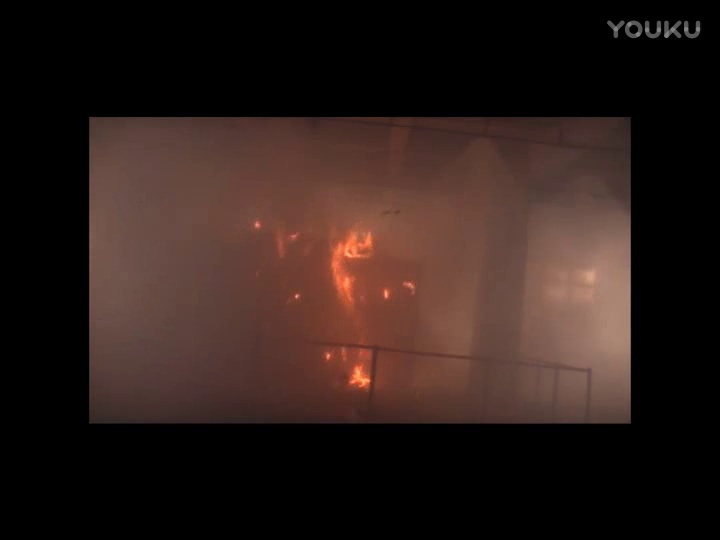fire: (329, 229, 371, 307), (345, 357, 371, 391)
